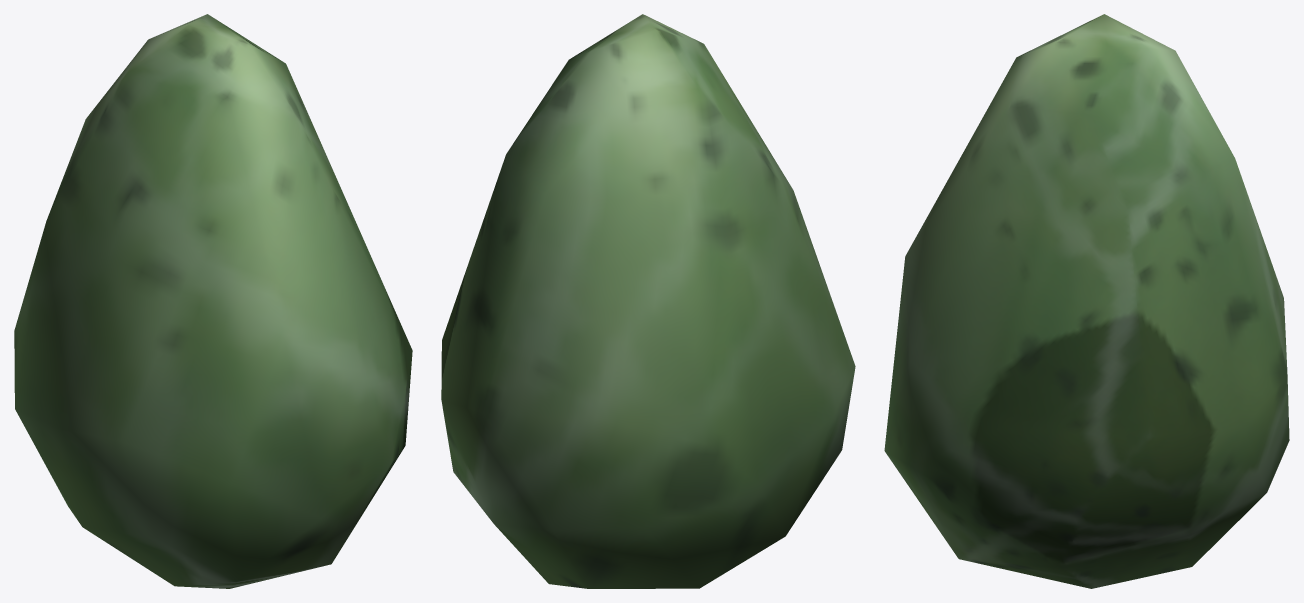
File: SM_Gem_Jade_Piece_002.fbx
The picture shows the model from 3 angles, left to right: view 1: azimuth 30°, elevation 25°; view 2: azimuth 150°, elevation 25°; view 3: azimuth 270°, elevation 25°; orthographic projection. The views are drawn at different scales.
Visible parts, largest first — view 1: SM_Gem_Jade_Piece_002; view 2: SM_Gem_Jade_Piece_002; view 3: SM_Gem_Jade_Piece_002.
Part boxes in pixels (left/top/right/bottom): SM_Gem_Jade_Piece_002: left=14, top=14, right=412, bottom=588; SM_Gem_Jade_Piece_002: left=441, top=14, right=855, bottom=588; SM_Gem_Jade_Piece_002: left=884, top=14, right=1289, bottom=588.
Size of the model in its own units: 12.85 by 19.65 by 13.17.
